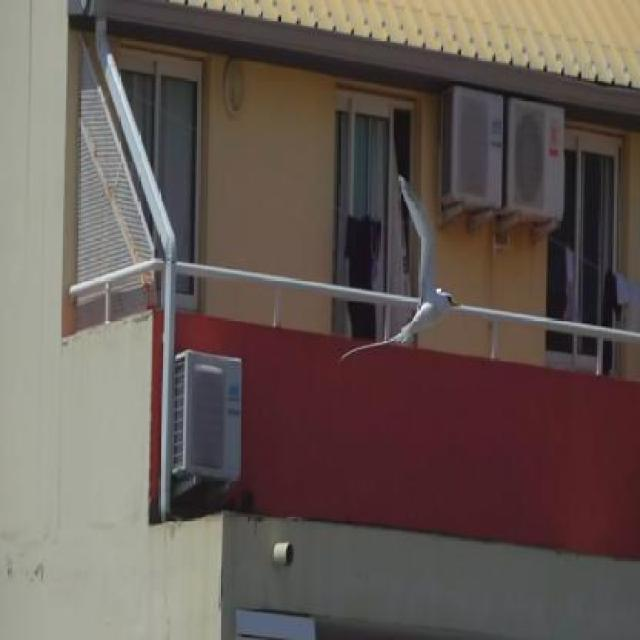bird: (342, 162, 463, 404)
